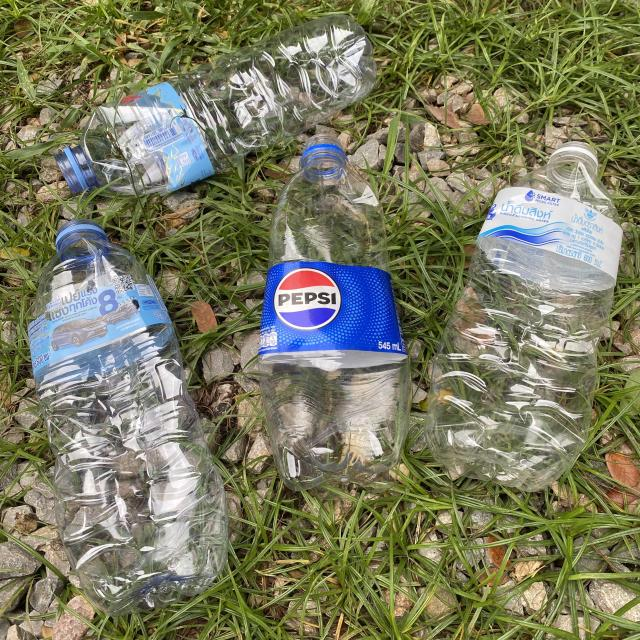plastik: (29, 220, 228, 615), (426, 141, 622, 491), (55, 15, 376, 195), (259, 134, 410, 490)
